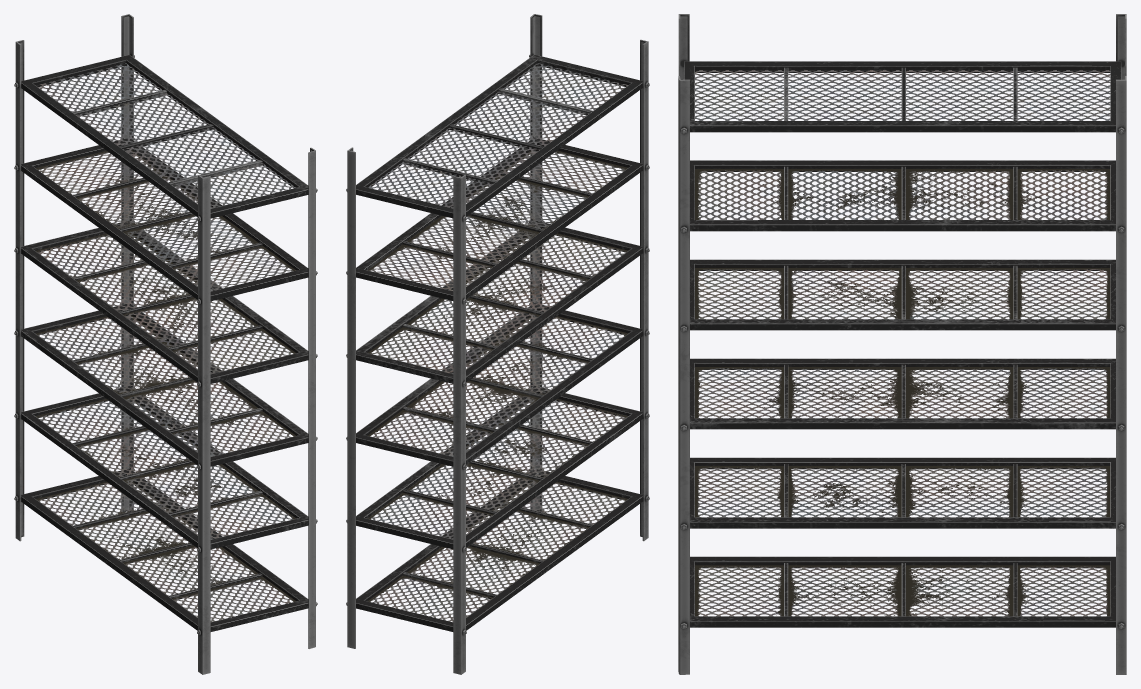
Rendered from METAL SHELF.fbx.
The picture shows the model from 3 angles, left to right: view 1: azimuth 30°, elevation 25°; view 2: azimuth 150°, elevation 25°; view 3: azimuth 270°, elevation 25°; orthographic projection. The views are drawn at different scales.
Parts seen in each view (by area): view 1: Cloner_1; view 2: Cloner_1; view 3: Cloner_1.
Boxes of the visible parts, <box> form: Cloner_1: <box>14,14,317,674</box>; Cloner_1: <box>346,14,649,674</box>; Cloner_1: <box>678,14,1126,674</box>.
Bounding box in the file's own units: 0.7591 × 3 × 2.05.
Materials: 1 (1 with a texture image).
